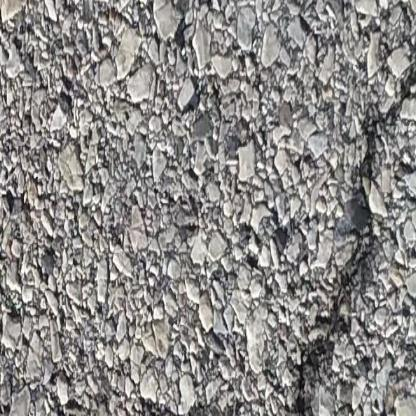Cracks: (301, 1, 416, 416)
